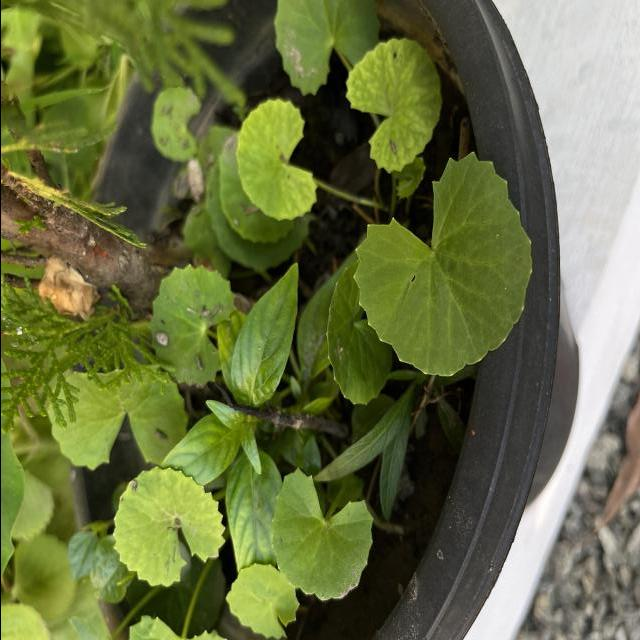Centella asiatica: (348, 148, 536, 380), (108, 462, 229, 592), (266, 464, 375, 606)
